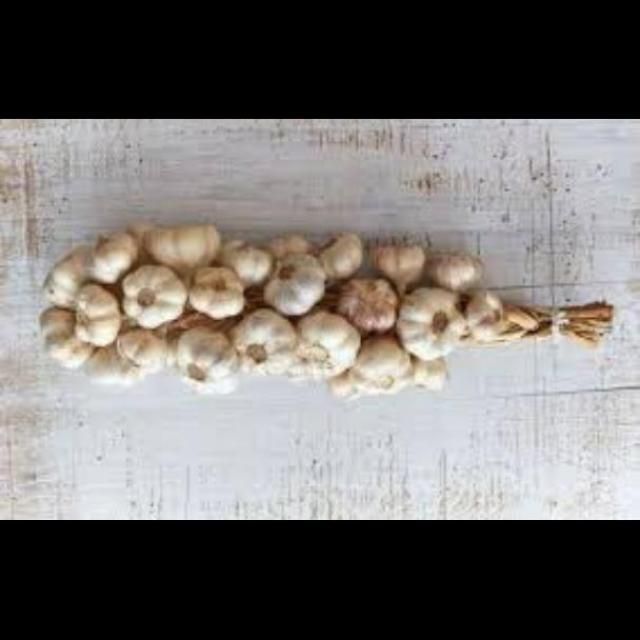garlic: (21, 216, 528, 407)
